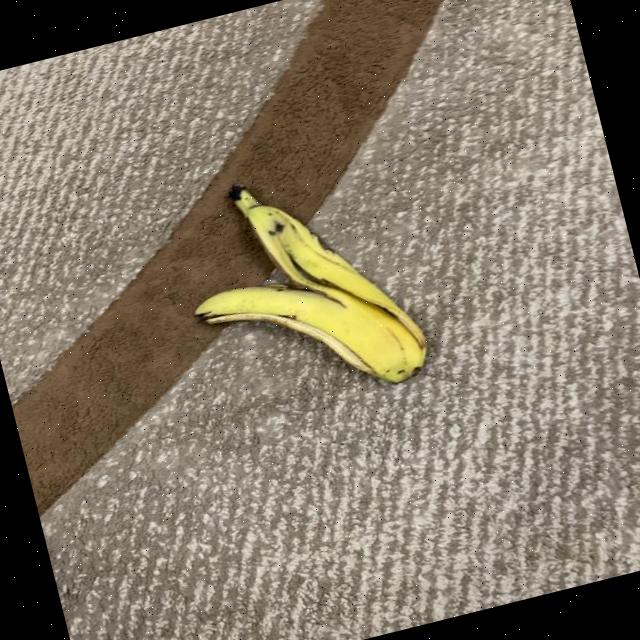banana-peel: (164, 146, 436, 427)
